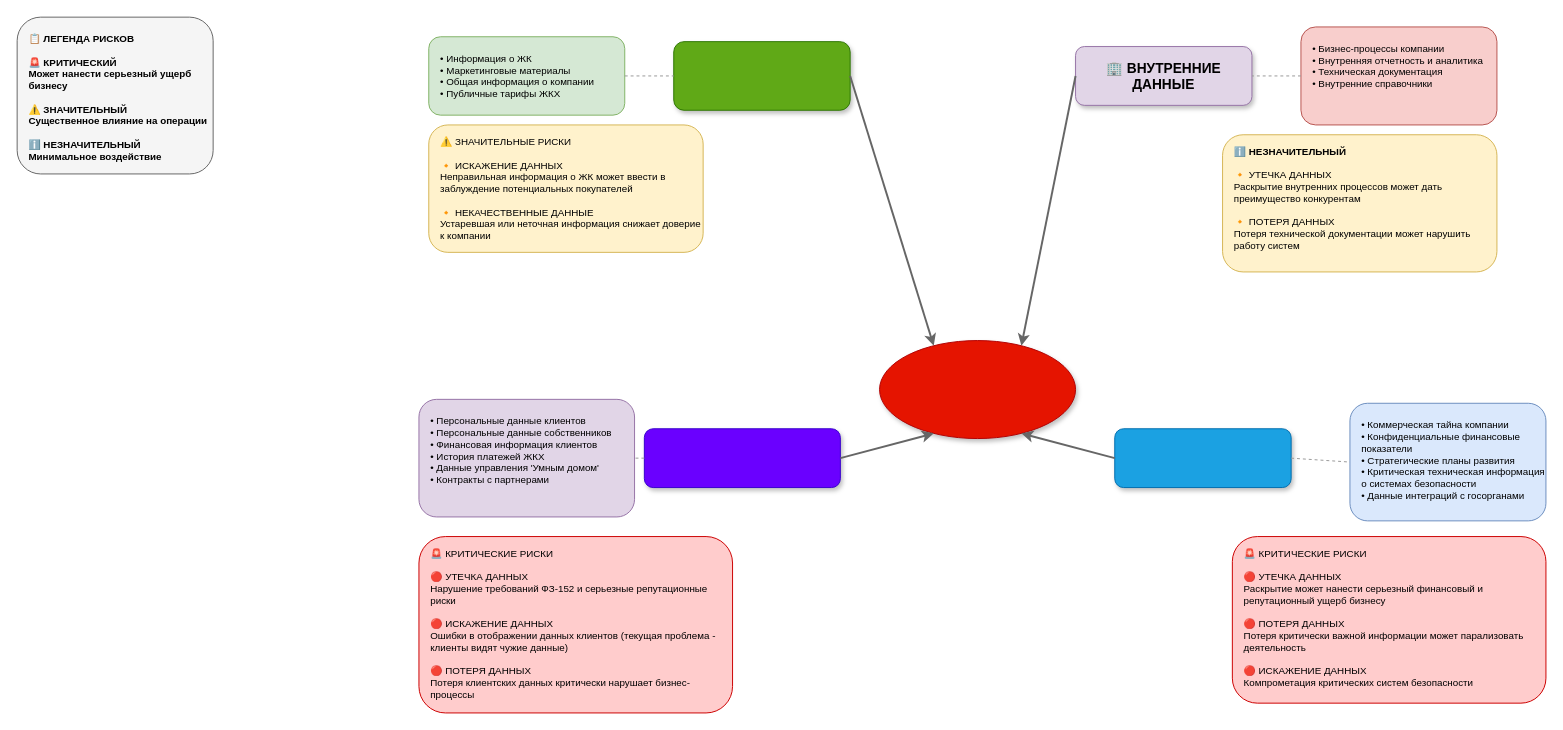
Image size: 1563x730. Some labels were removed from this diagram. The centre of each missing label's shape, as x and y in pixels:
"БЕЗОПАСНОСТЬ ДАННЫХ PropDevelopment" goes at pixel 978 390.
"КОНФИДЕНЦИАЛЬНЫЕ ДАННЫЕ" goes at pixel 742 459.
"СЕКРЕТНЫЕ ДАННЫЕ" goes at pixel 1203 459.
"📢 ПУБЛИЧНЫЕ ДАННЫЕ" goes at pixel 762 77.
